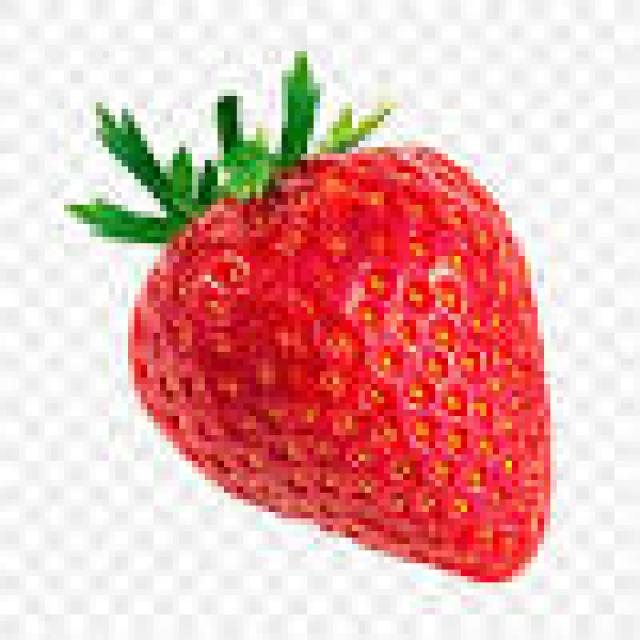strawberry: (78, 86, 566, 584)
